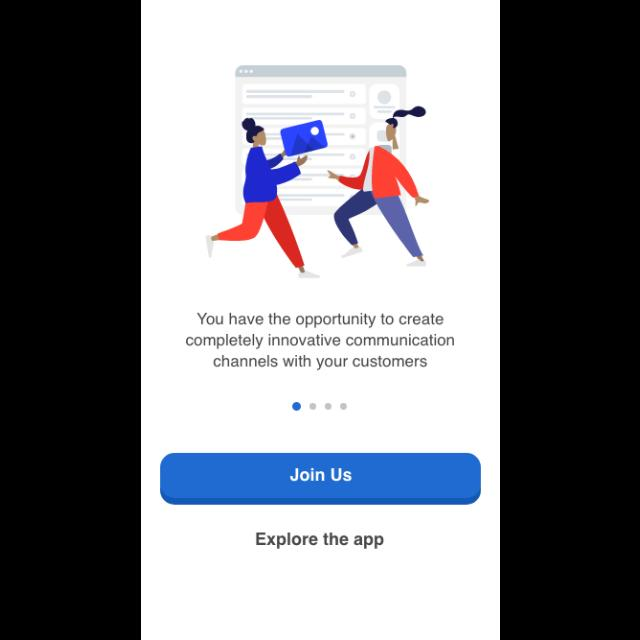image: (202, 65, 430, 278)
pageindicator: (290, 401, 348, 411)
text: (186, 313, 454, 372), (256, 532, 384, 550)
textbutton: (160, 453, 482, 505)
